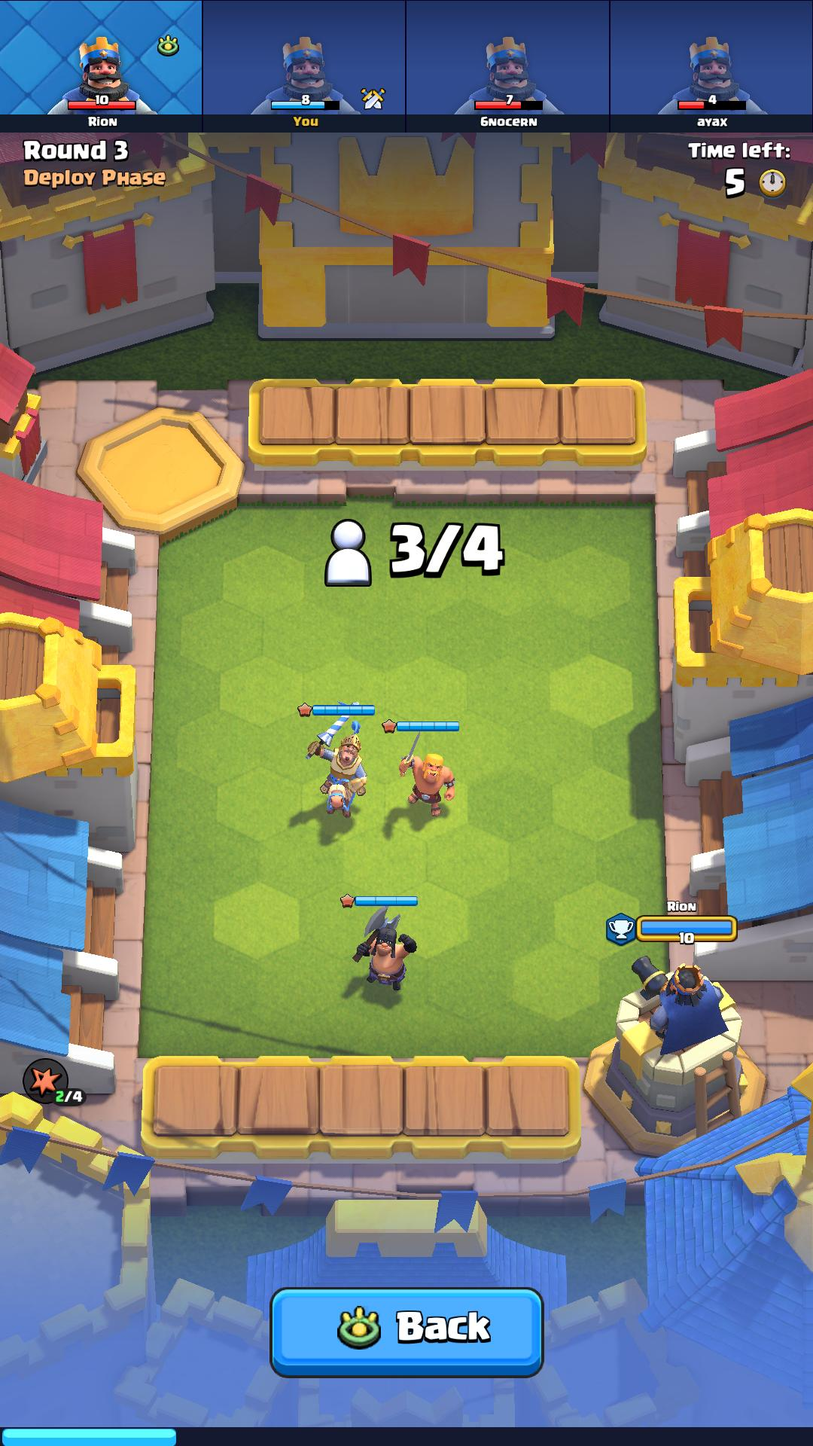barbarian: (394, 732, 463, 819)
executioner: (346, 908, 422, 992)
prince: (303, 720, 377, 827)
